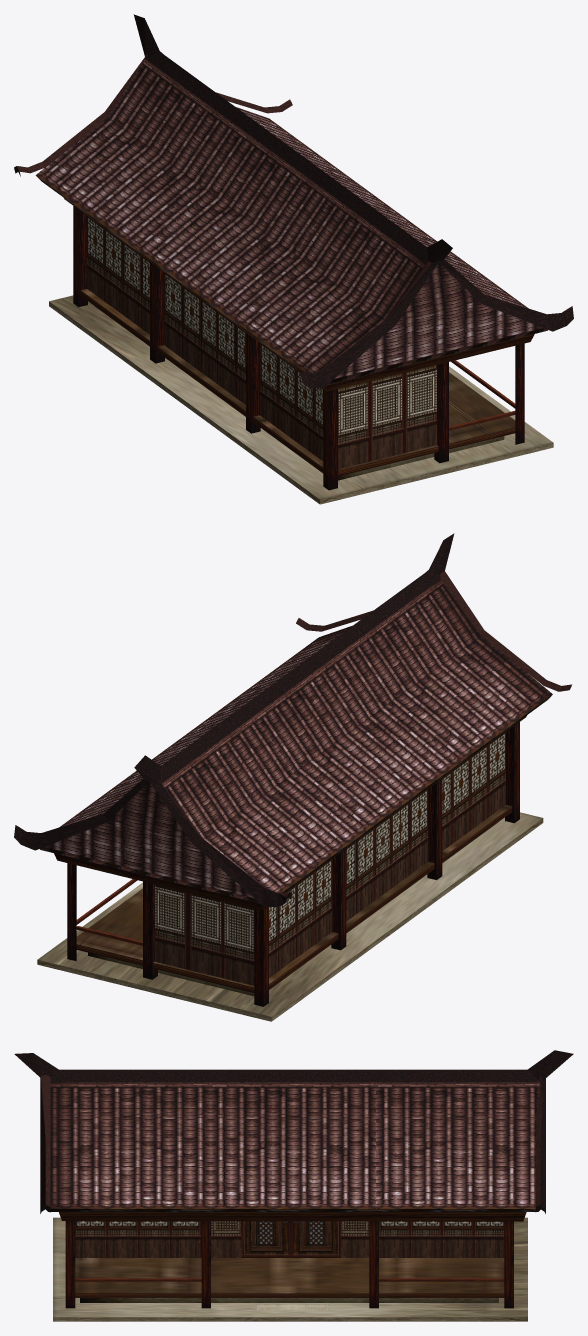
Rendered from ob-033-guesthouse-02_lod_01.glb.
The picture shows the model from 3 angles, top to bottom: view 1: azimuth 30°, elevation 25°; view 2: azimuth 150°, elevation 25°; view 3: azimuth 270°, elevation 25°; orthographic projection. The views are drawn at different scales.
Visible parts, largest first — view 1: ob-033-guesthouse-01, ob-033-guesthouse-02; view 2: ob-033-guesthouse-01, ob-033-guesthouse-02; view 3: ob-033-guesthouse-01, ob-033-guesthouse-02.
Part boxes in pixels (left/top/right/bottom): ob-033-guesthouse-01: left=14, top=14, right=573, bottom=480; ob-033-guesthouse-02: left=49, top=198, right=553, bottom=504; ob-033-guesthouse-01: left=14, top=533, right=572, bottom=996; ob-033-guesthouse-02: left=37, top=715, right=543, bottom=1021; ob-033-guesthouse-01: left=14, top=1050, right=573, bottom=1310; ob-033-guesthouse-02: left=53, top=1208, right=527, bottom=1321.
Size of the model in its own units: 13.56 by 11.86 by 27.45.
2 materials, 2 textured.
